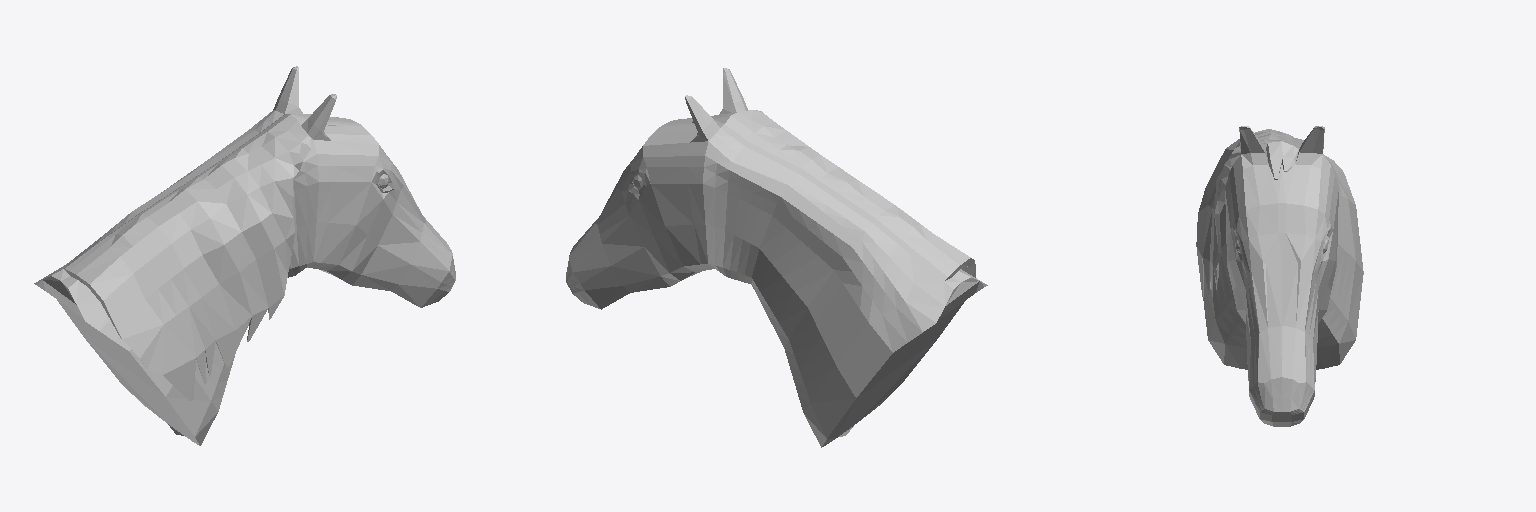
The model's file is horse_head.obj.
The picture shows the model from 3 angles: view 1: azimuth 30°, elevation 25°; view 2: azimuth 150°, elevation 25°; view 3: azimuth 270°, elevation 25°; orthographic projection.
Visible parts, largest first — view 1: Plane.001_Plane.002; view 2: Plane.001_Plane.002; view 3: Plane.001_Plane.002.
Boxes of the visible parts, x1=… form: Plane.001_Plane.002: x1=34, y1=66, x2=455, y2=445; Plane.001_Plane.002: x1=566, y1=68, x2=987, y2=447; Plane.001_Plane.002: x1=1196, y1=126, x2=1363, y2=426.
Size of the model in its own units: 0.934 by 0.7307 by 0.3465.